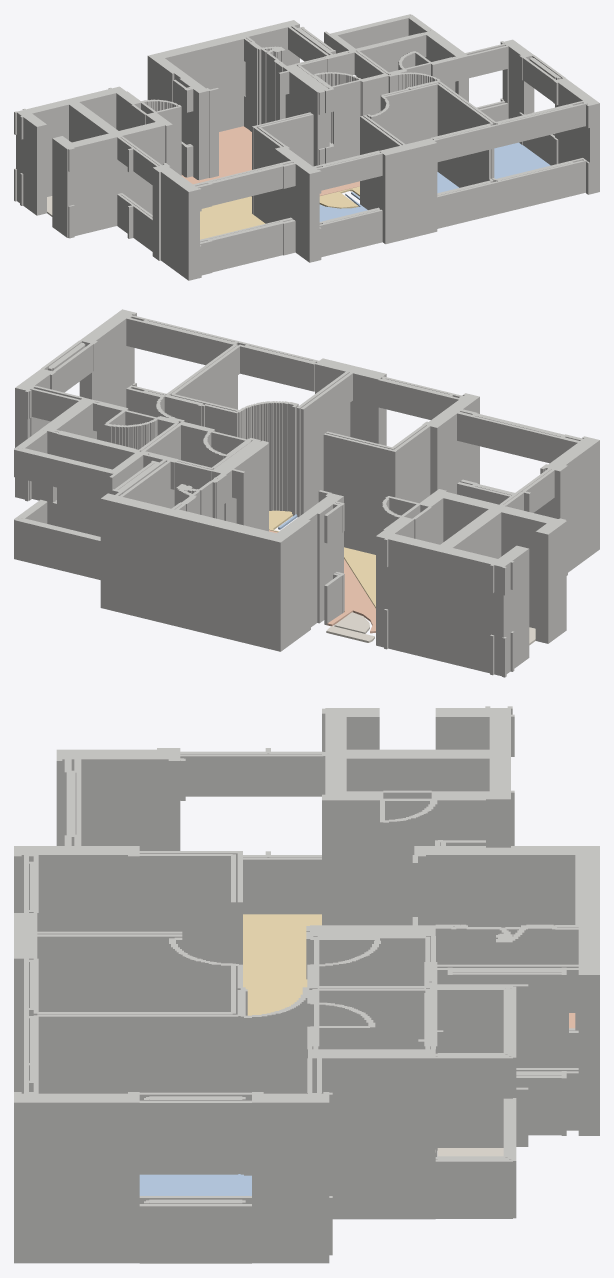
3 views of the same model, one above another, from view 1: azimuth 30°, elevation 25°; view 2: azimuth 150°, elevation 25°; view 3: azimuth 270°, elevation 25° (orthographic). The views are drawn at different scales.
Visible parts, largest first — view 1: walls, room:living:4, room:kitchen:0, room:bedroom:8, room:bedroom:6; view 2: walls, room:living:4, room:kitchen:0; view 3: walls, room:living:4, room:bedroom:8.
Part boxes in pixels (left/top/right/bottom): walls: left=14, top=14, right=599, bottom=280; room:living:4: left=200, top=186, right=359, bottom=239; room:kitchen:0: left=181, top=126, right=359, bottom=196; room:bedroom:8: left=494, top=142, right=550, bottom=178; room:bedroom:6: left=319, top=194, right=367, bottom=221; walls: left=14, top=309, right=599, bottom=677; room:living:4: left=269, top=510, right=375, bottom=608; room:kitchen:0: left=269, top=530, right=375, bottom=633; walls: left=14, top=706, right=599, bottom=1263; room:living:4: left=243, top=914, right=321, bottom=1015; room:bedroom:8: left=139, top=1174, right=251, bottom=1195.
Bounding box in the file's own units: 14.81 × 2.8 × 9.25.
